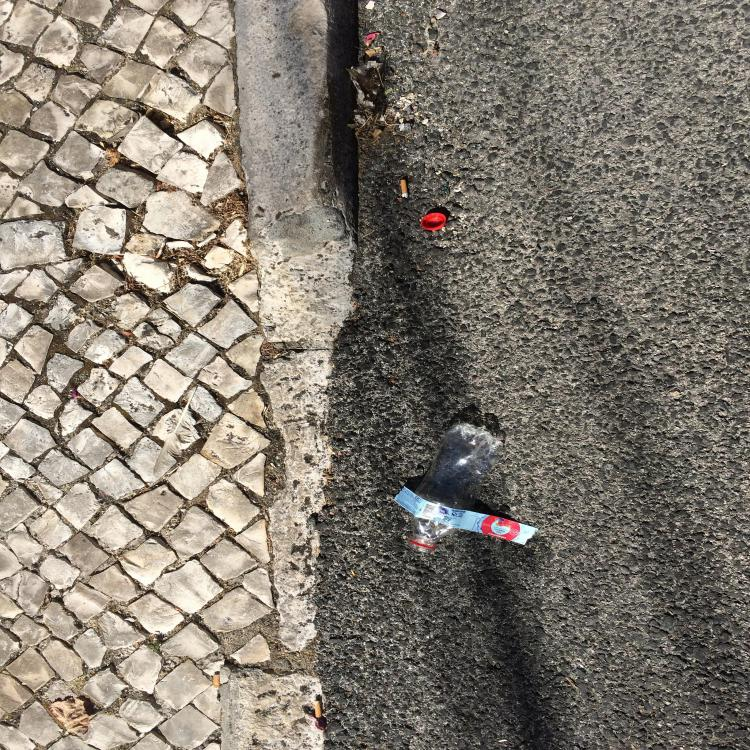Cigarette: (156, 241, 166, 259), (314, 701, 322, 718), (401, 180, 408, 199), (214, 674, 220, 691)
Clear plastic bottle: (409, 423, 503, 553)
Plastic bottle cap: (421, 213, 446, 230)
